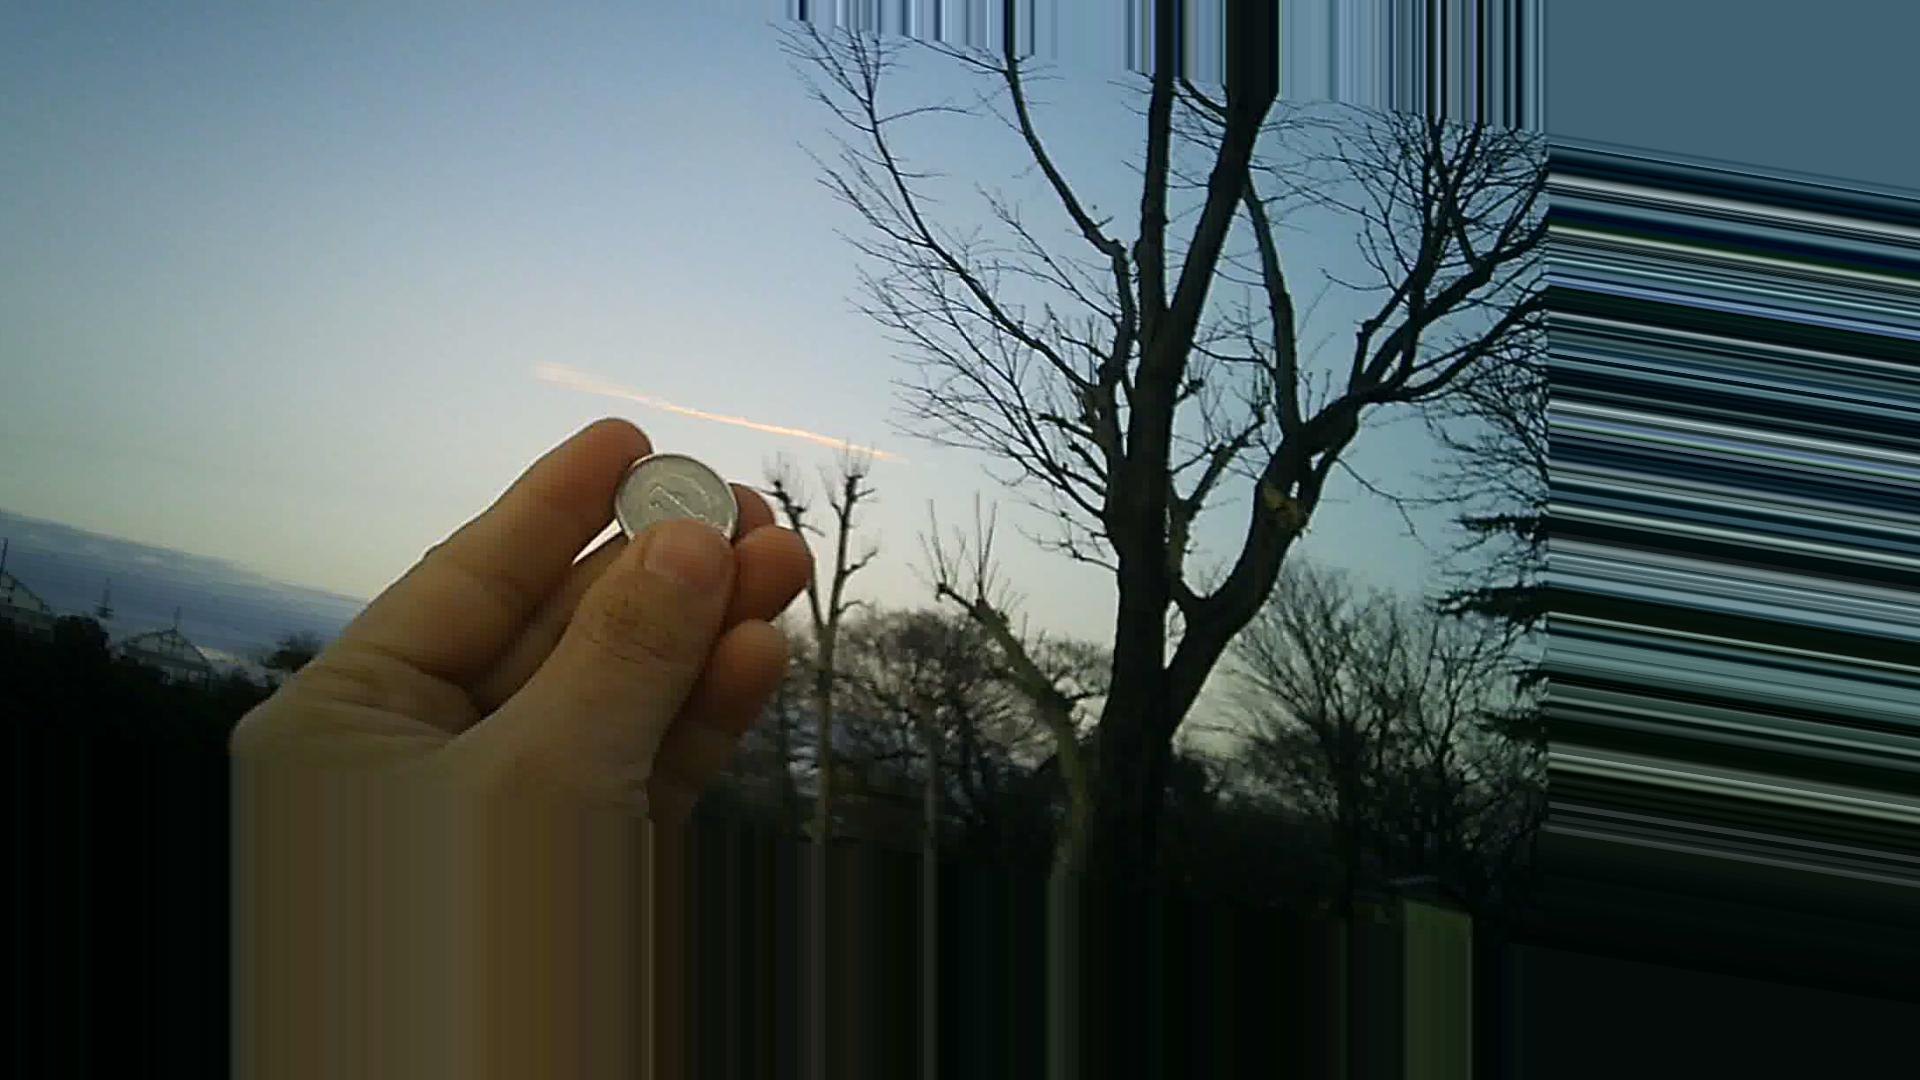1 Yen: (608, 442, 742, 559)
